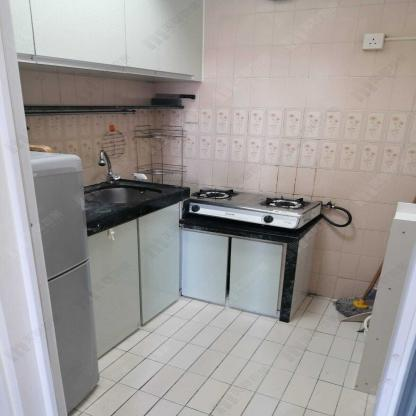Cupboard: (11, 0, 206, 83)
Faucet: (93, 145, 121, 183)
Fridge: (31, 149, 100, 415)
Sink: (84, 178, 190, 221)
Stove: (188, 188, 323, 230)
